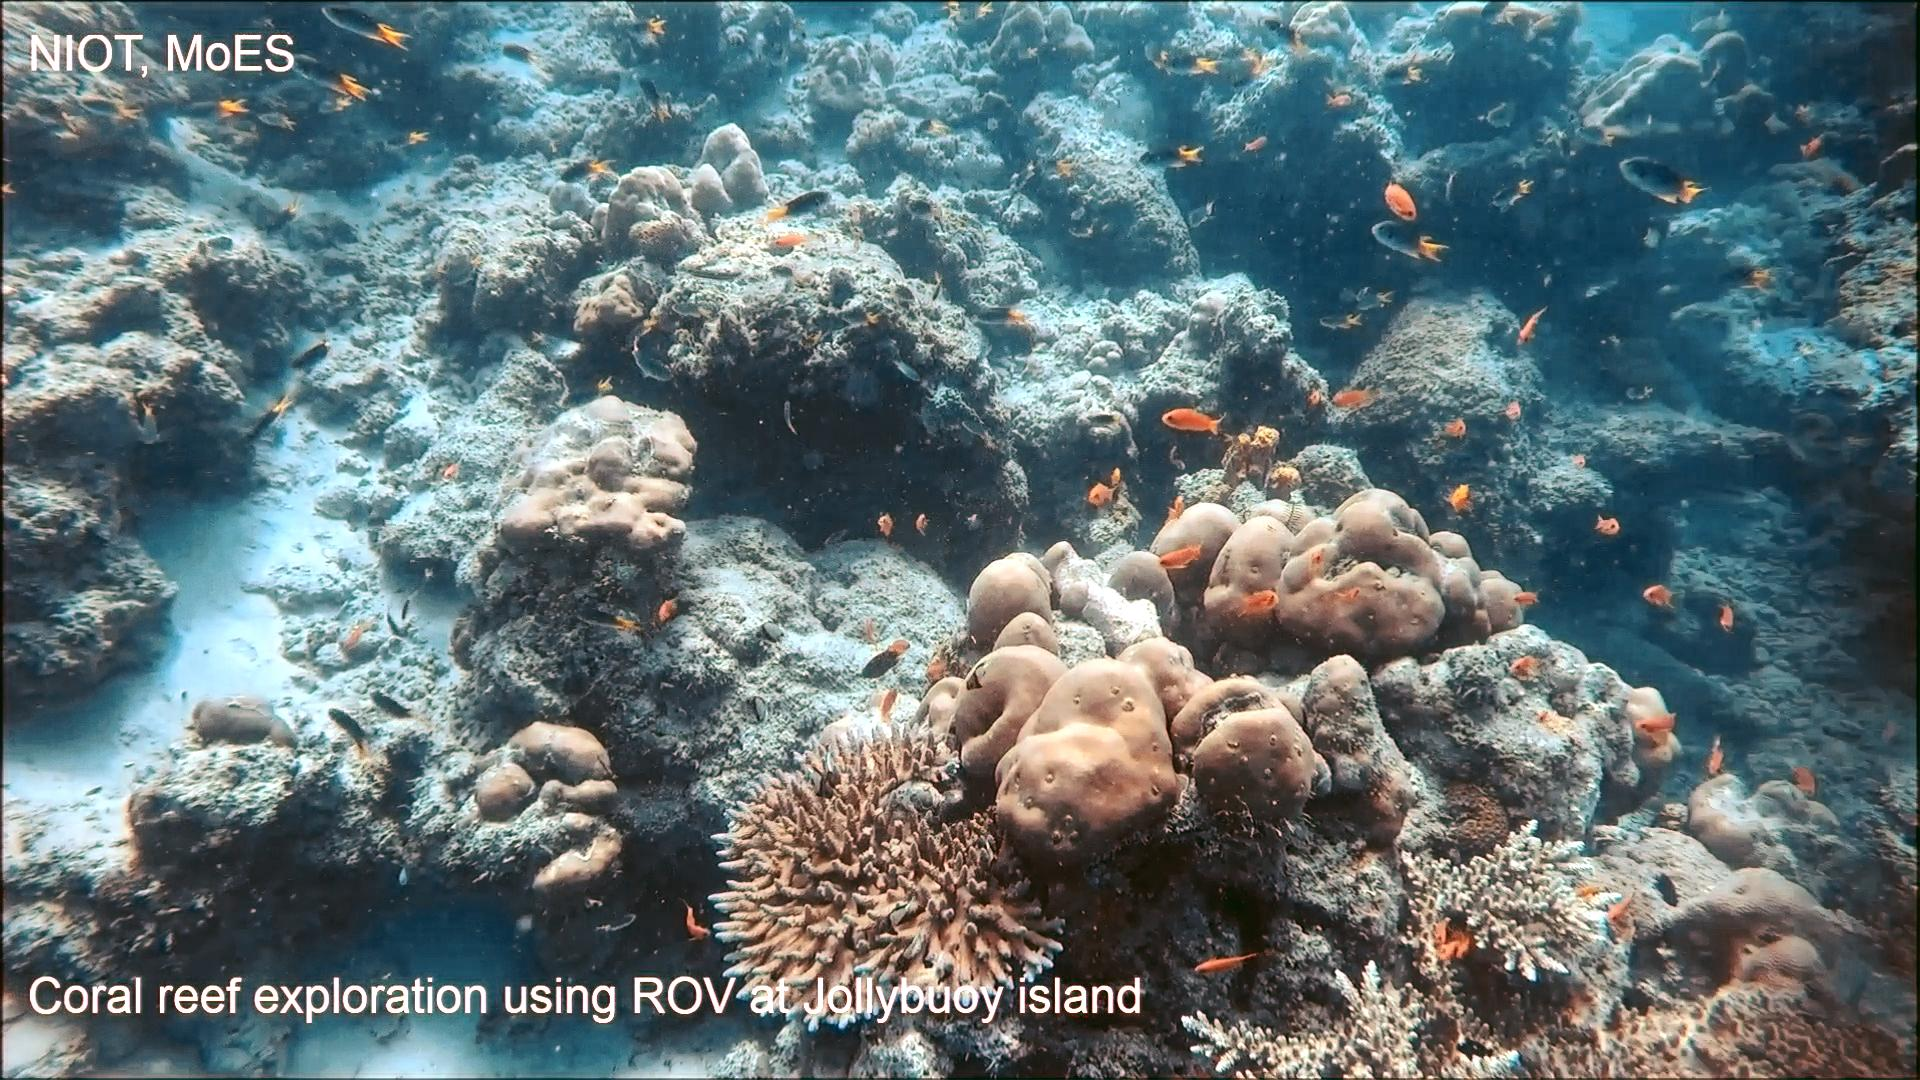Porites-Porites pukoensis: (912, 538, 1322, 882), (1146, 482, 1538, 657)
